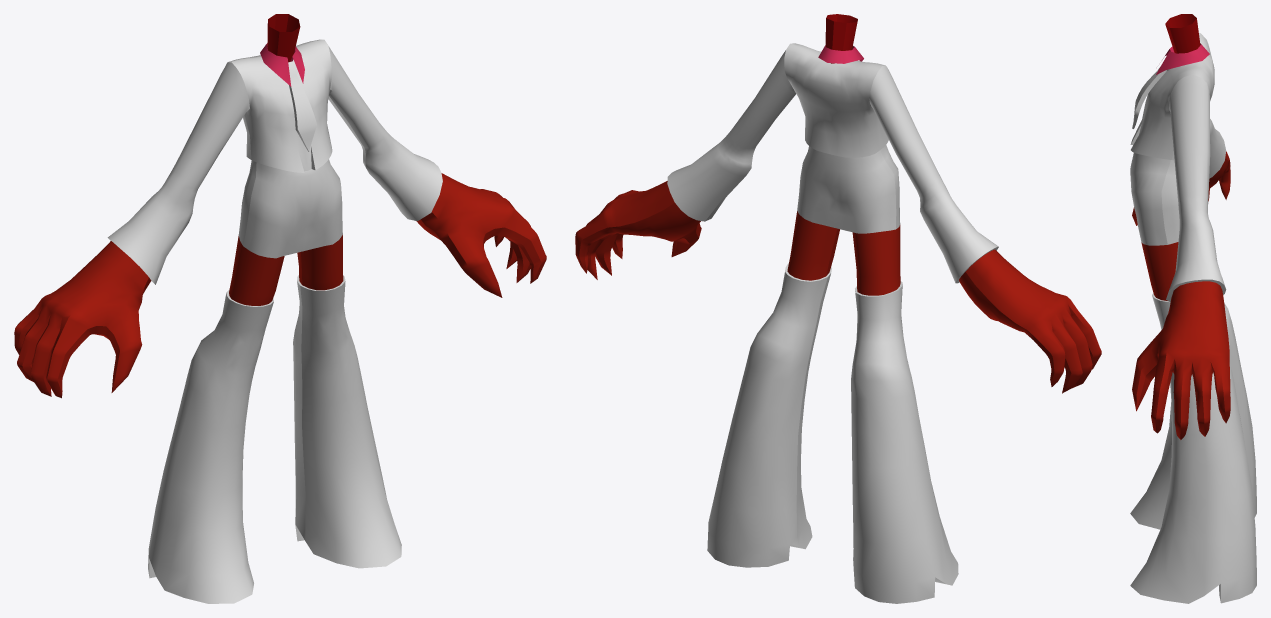
The model's file is SM_Outfit_01.fbx.
3 views of the same model, side by side, from view 1: azimuth 30°, elevation 25°; view 2: azimuth 150°, elevation 25°; view 3: azimuth 270°, elevation 25° (orthographic). The views are drawn at different scales.
Visible parts, largest first — view 1: SM_Outfit_01; view 2: SM_Outfit_01; view 3: SM_Outfit_01.
Boxes of the visible parts, left/top/right/bottom form: SM_Outfit_01: left=14, top=14, right=546, bottom=603; SM_Outfit_01: left=575, top=14, right=1101, bottom=603; SM_Outfit_01: left=1130, top=14, right=1256, bottom=603.
Size of the model in its own units: 38.38 by 39.21 by 8.47.
